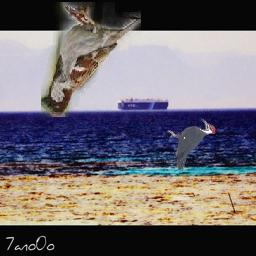Sparrow: (41, 3, 141, 118)
Woodpecker: (168, 120, 217, 171)
